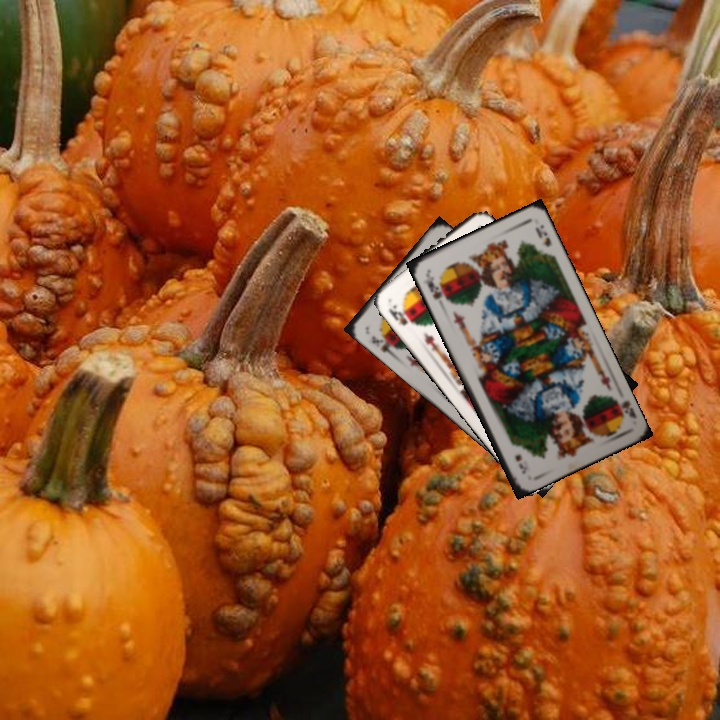SK: (384, 300, 418, 329), (423, 270, 450, 305), (607, 391, 638, 421), (367, 331, 400, 356)
